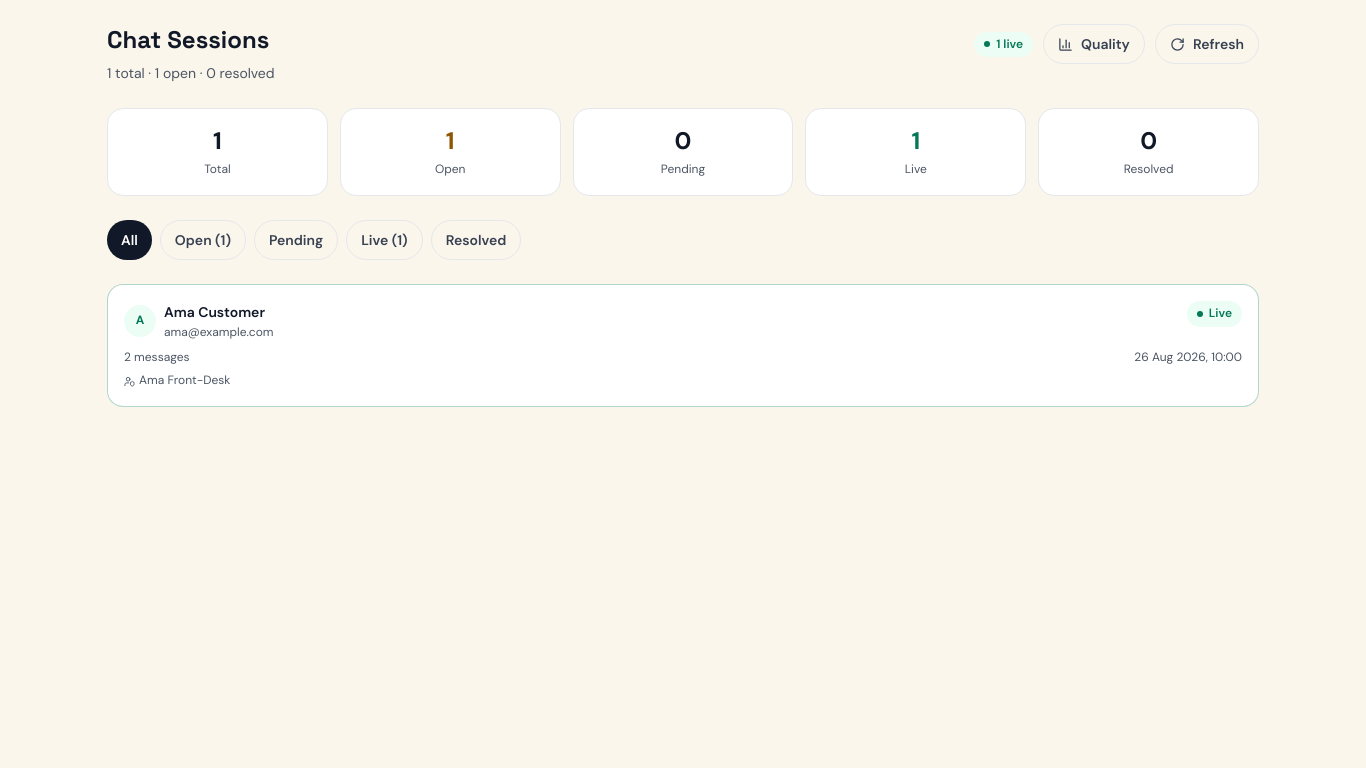
Test: chat console — agent attribution (T69) › labels an agent bubble with the staff member who sent it
This screenshot has width=1366, height=768.
Click the button "Ama Customer": (140, 321) [107,284,1259,407]
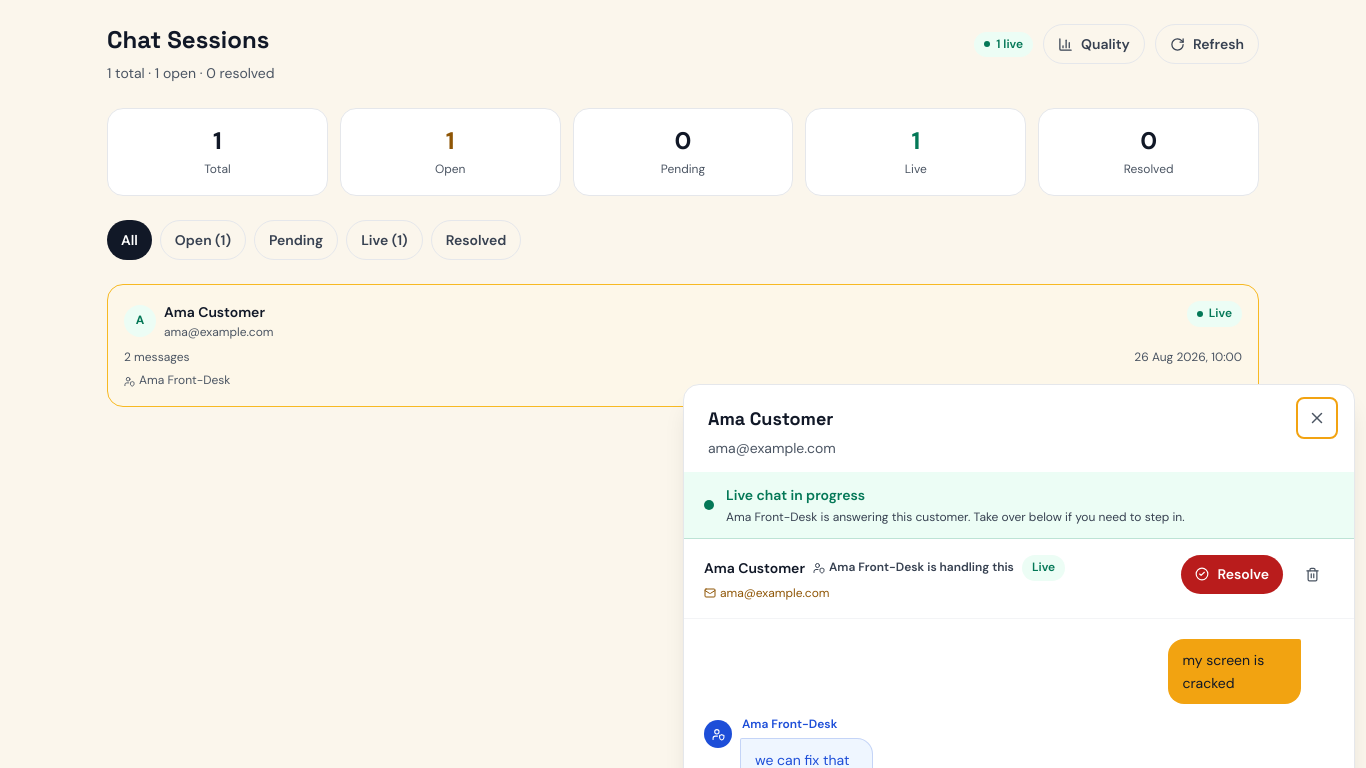
Now the text "Ama Front-Desk" below "Live chat in progress" is shown, box [742,716,837,732]
